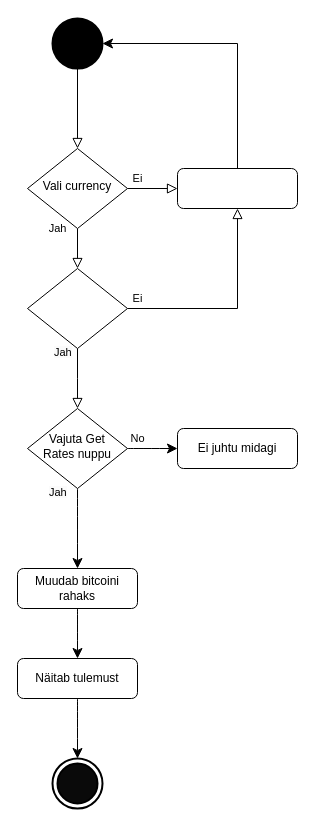
Some shapes in this 315 by 826 pixel diagram are drawn without their labels. The centre of each missing label's shape, as x and y in pixels:
"Error" goes at (x=237, y=188).
"Sisesta bitcoinide arv" goes at (x=77, y=308).
